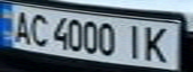0: (96, 20, 121, 57), (81, 18, 100, 55), (66, 16, 84, 52)
4: (48, 15, 69, 51)
A: (6, 8, 36, 45)
C: (27, 11, 51, 47)
I: (121, 21, 148, 61)
K: (139, 24, 175, 64)
